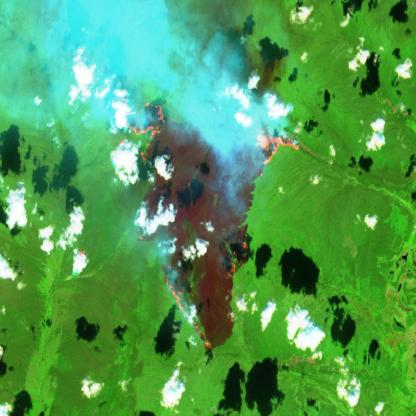fire: (120, 89, 304, 356)
